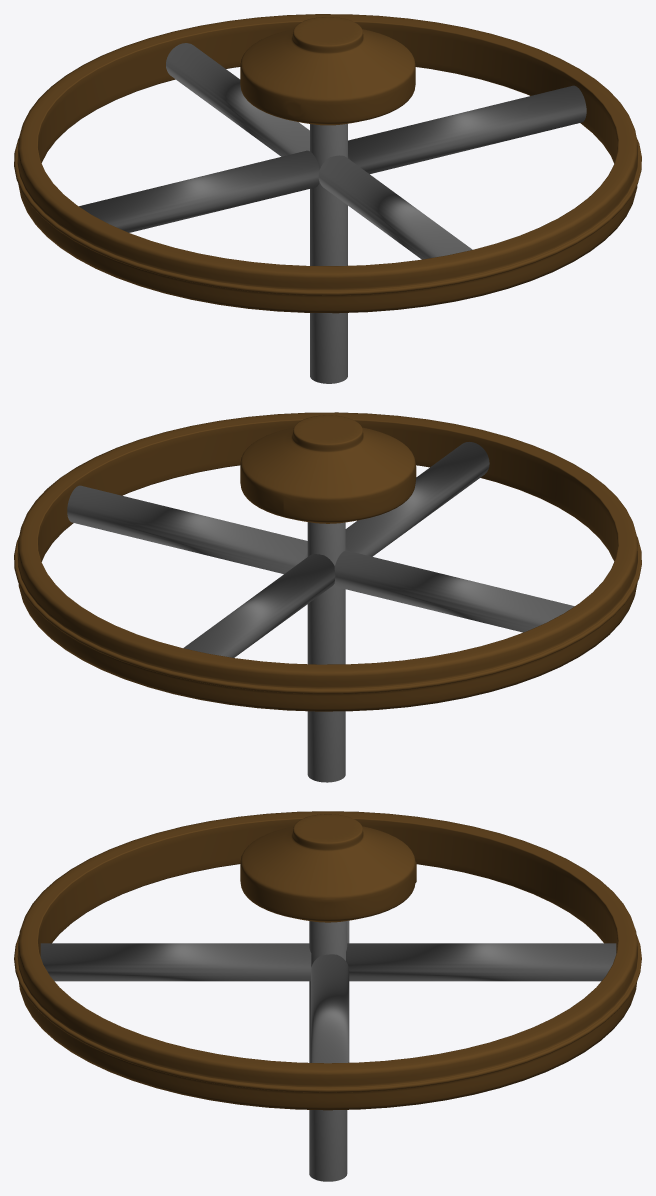
Rendered from chandelier.fbx.
3 renders of one model, top to bottom at view 1: azimuth 30°, elevation 25°; view 2: azimuth 150°, elevation 25°; view 3: azimuth 270°, elevation 25°, orthographic.
Visible parts, largest first — view 1: Circle, Cylinder; view 2: Circle, Cylinder; view 3: Circle, Cylinder.
Part boxes in pixels (x1,y1,x2,y2): Circle: (14, 14, 641, 313); Cylinder: (79, 43, 586, 383); Circle: (14, 412, 641, 711); Cylinder: (67, 442, 574, 782); Circle: (14, 811, 641, 1110); Cylinder: (40, 920, 616, 1181).
Size of the model in its own units: 708 by 430 by 708.
